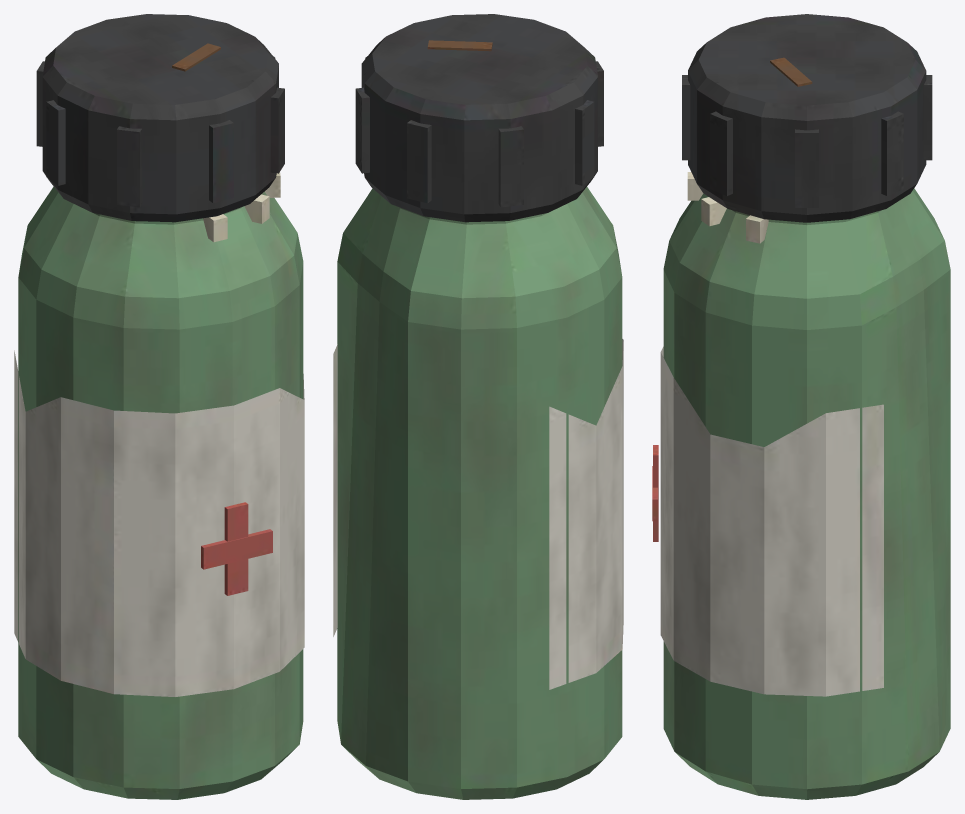
The model's file is HE02_hospital_pill_bottles_v3.glb.
3 views of the same model, side by side, from view 1: azimuth 30°, elevation 25°; view 2: azimuth 150°, elevation 25°; view 3: azimuth 270°, elevation 25° (orthographic).
Visible parts, largest first — view 1: Moulded medicine bottle; view 2: Moulded medicine bottle; view 3: Moulded medicine bottle.
Boxes of the visible parts, x1=… form: Moulded medicine bottle: x1=14, y1=14, x2=304, y2=799; Moulded medicine bottle: x1=333, y1=14, x2=623, y2=799; Moulded medicine bottle: x1=652, y1=14, x2=950, y2=799.
Size of the model in its own units: 0.0382 by 0.1 by 0.0392.
Materials: 6 (6 with a texture image).
